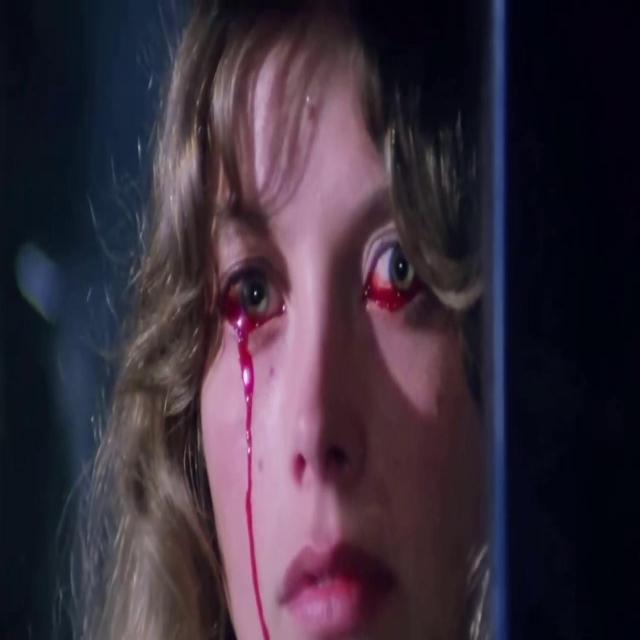flood: (234, 320, 270, 640)
